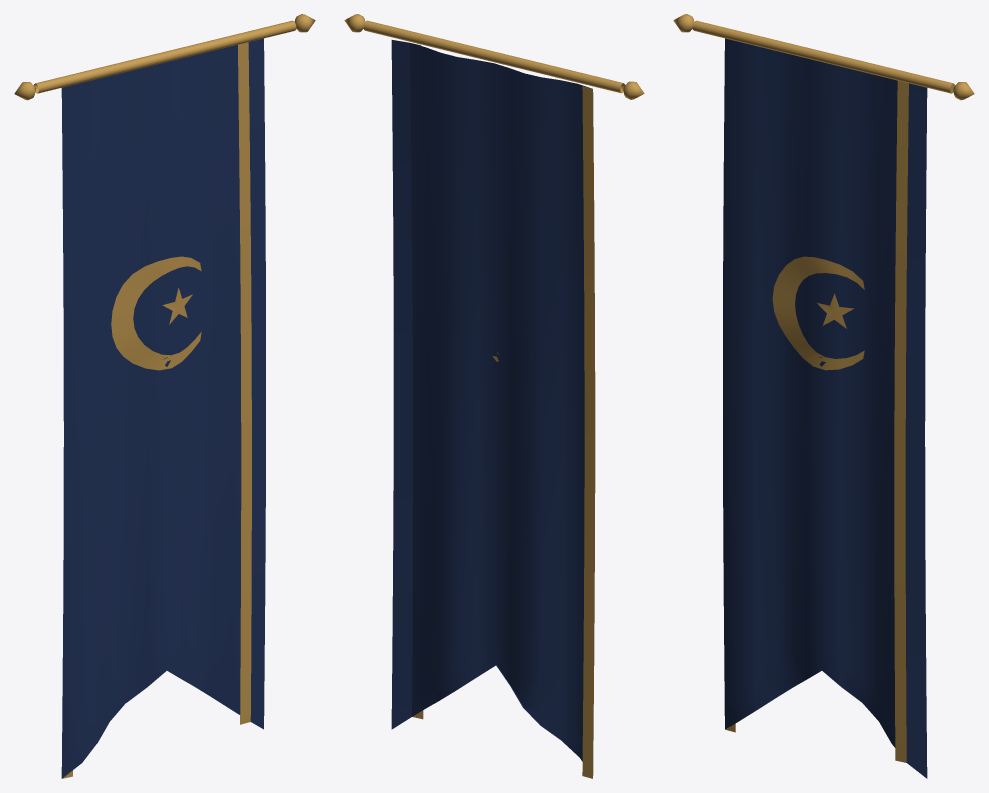
File: banner_cloth.glb
3 renders of one model, left to right at view 1: azimuth 30°, elevation 25°; view 2: azimuth 150°, elevation 25°; view 3: azimuth 330°, elevation 25°, orthographic.
Visible parts, largest first — view 1: banner_cloth; view 2: banner_cloth; view 3: banner_cloth.
Part boxes in pixels (left/top/right/bottom): banner_cloth: left=14, top=14, right=315, bottom=778; banner_cloth: left=344, top=14, right=644, bottom=778; banner_cloth: left=673, top=14, right=974, bottom=778.
Bounding box in the file's own units: 1.64 × 3.67 × 0.0931.
